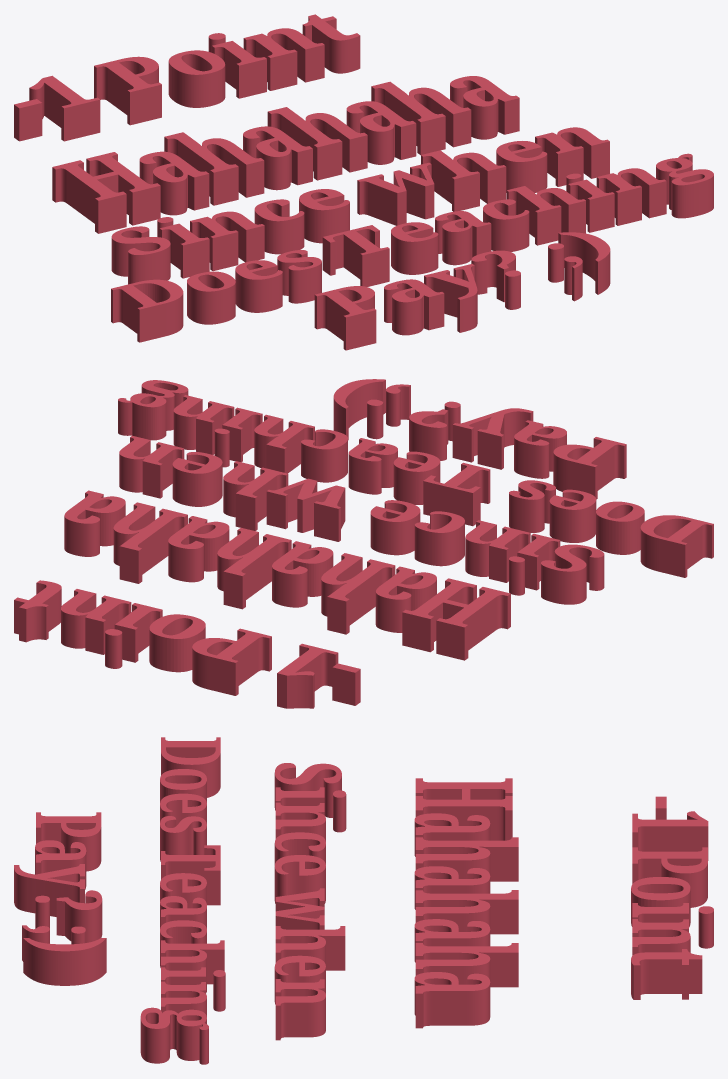
File: neteach.gltf
3 views of the same model, one above another, from view 1: azimuth 30°, elevation 25°; view 2: azimuth 150°, elevation 25°; view 3: azimuth 270°, elevation 25° (orthographic). The views are drawn at different scales.
Parts seen in each view (by area): view 1: Mesh_Mesh_head_geo001_lambert2SG001; view 2: Mesh_Mesh_head_geo001_lambert2SG001; view 3: Mesh_Mesh_head_geo001_lambert2SG001.
Part boxes in pixels (left/top/right/bottom): Mesh_Mesh_head_geo001_lambert2SG001: left=14, top=14, right=713, bottom=350; Mesh_Mesh_head_geo001_lambert2SG001: left=14, top=379, right=713, bottom=708; Mesh_Mesh_head_geo001_lambert2SG001: left=14, top=737, right=713, bottom=1064.
Bounding box in the file's own units: 181 × 10 × 183.
